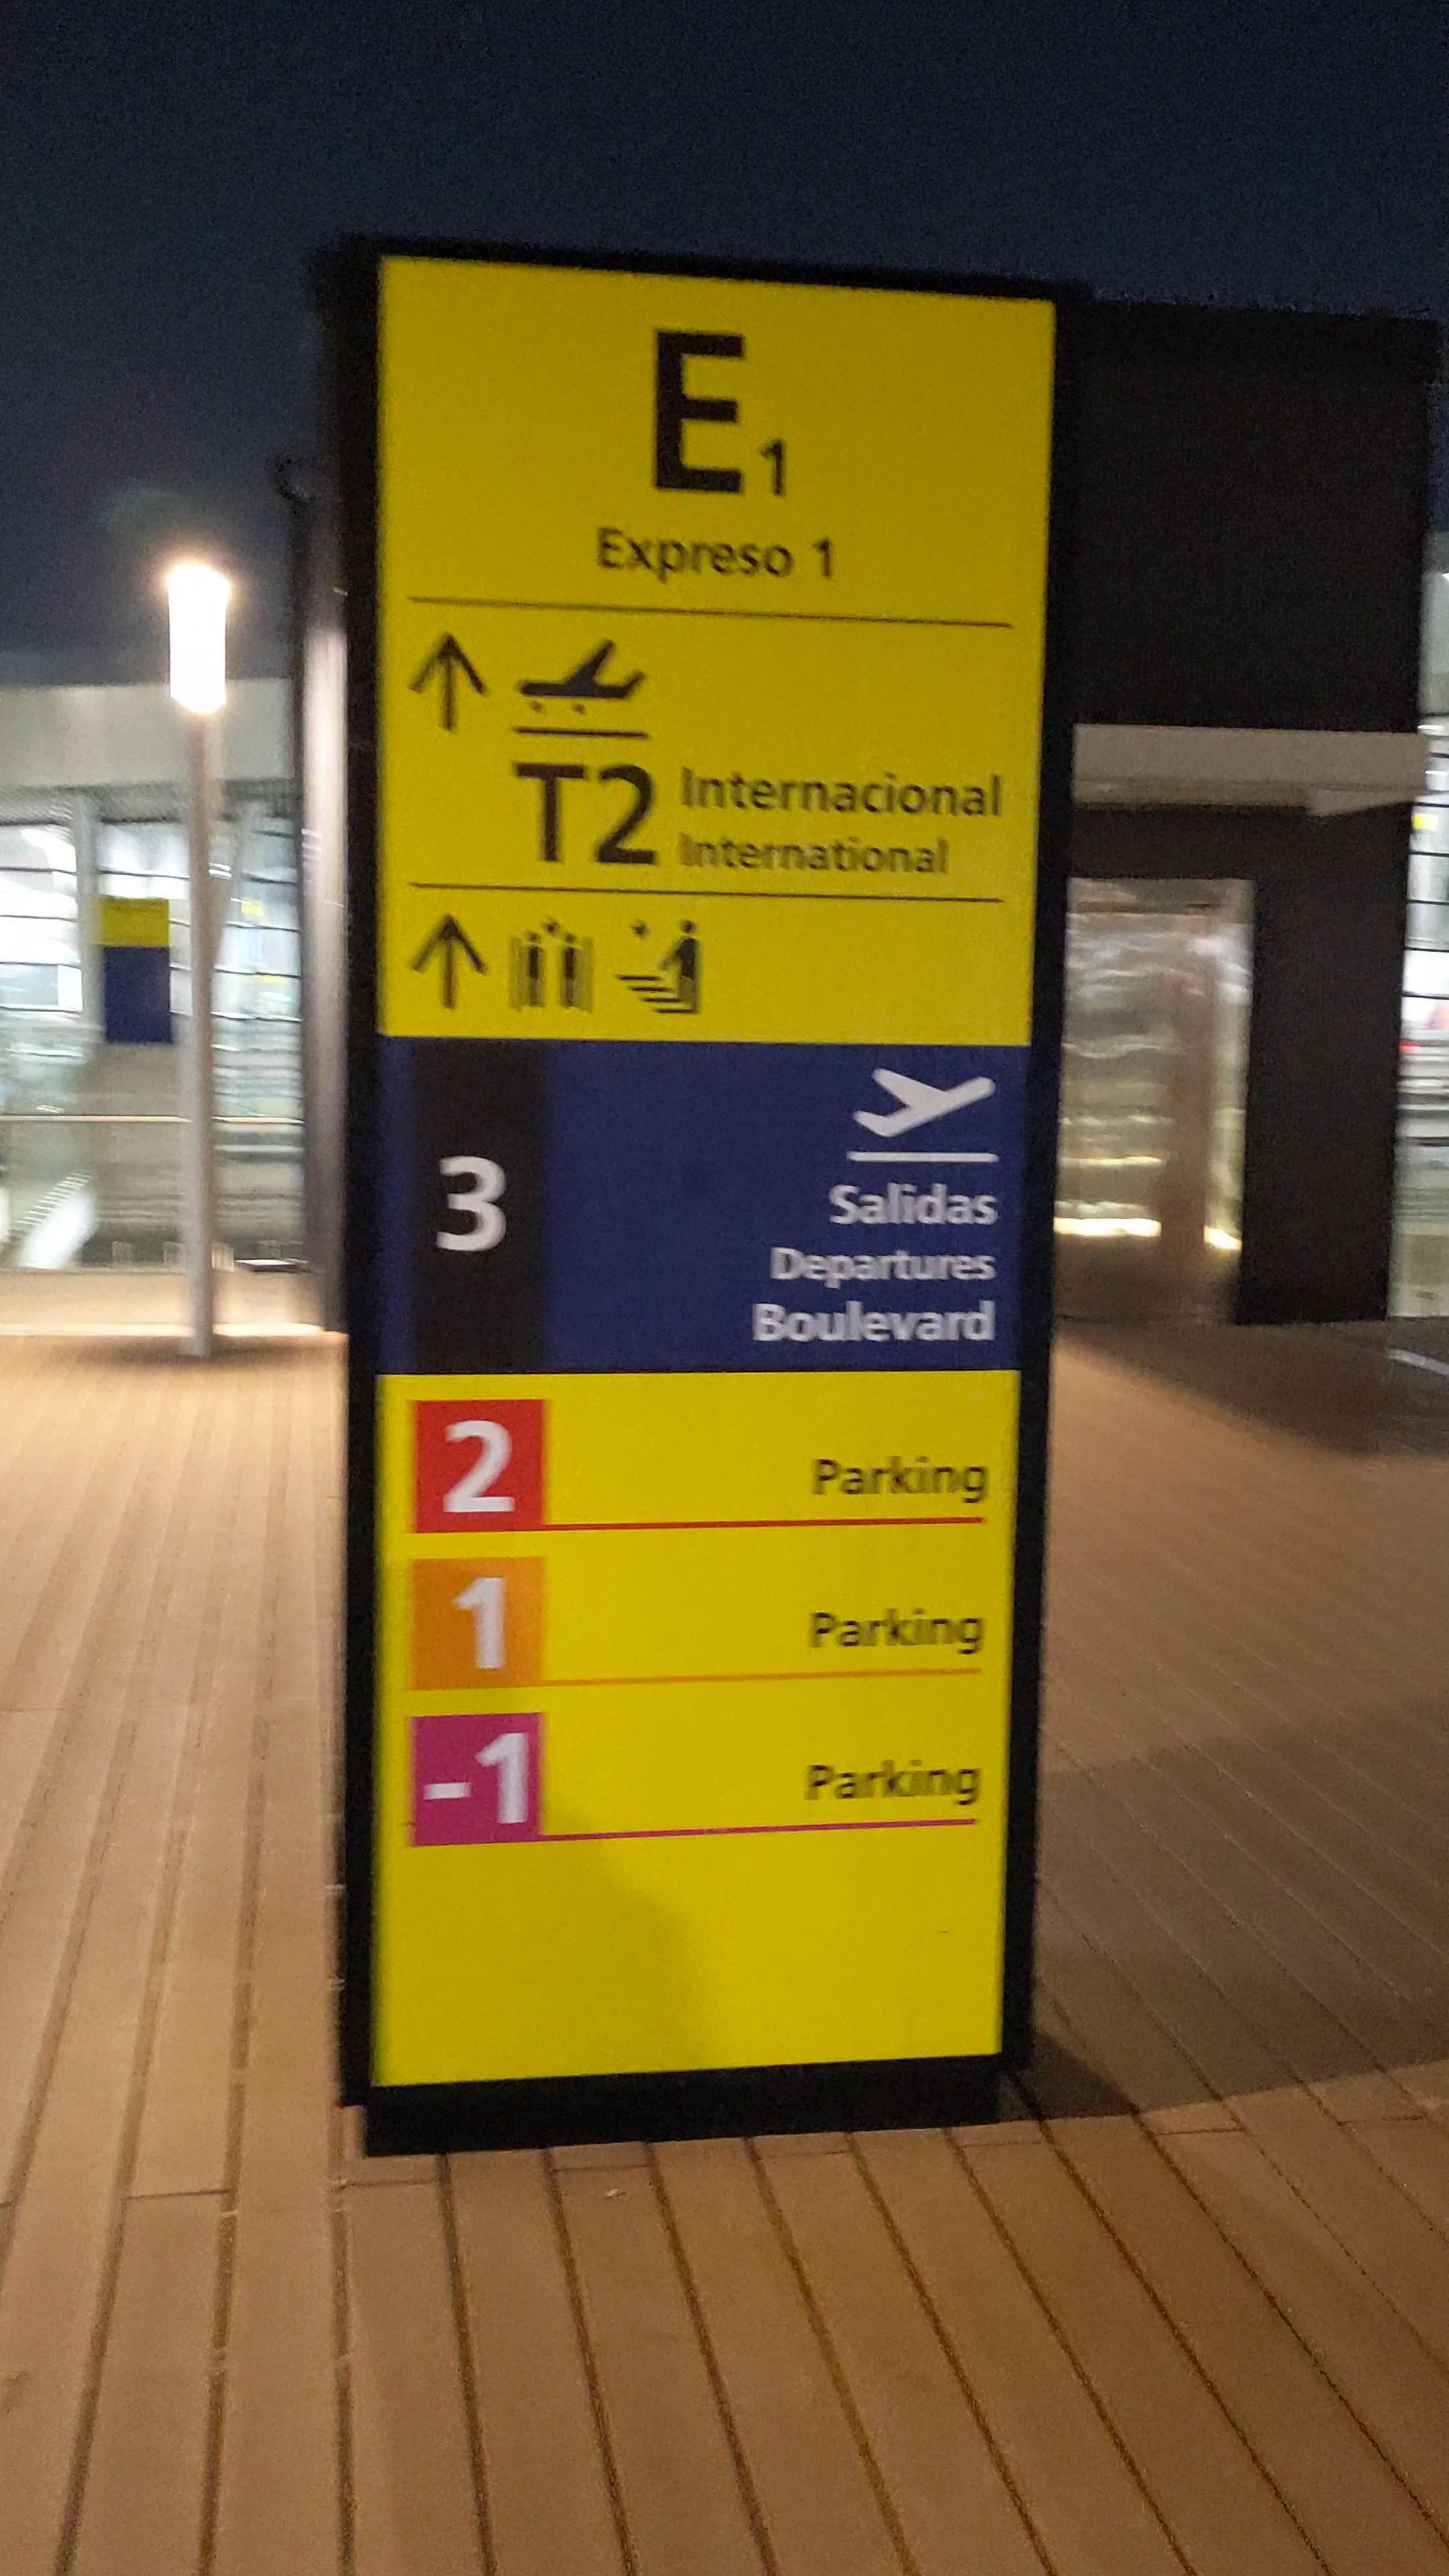airplane symbol: (849, 1063, 1000, 1143), (515, 635, 653, 702)
thin up arrow: (407, 909, 492, 1016), (409, 630, 492, 736)
